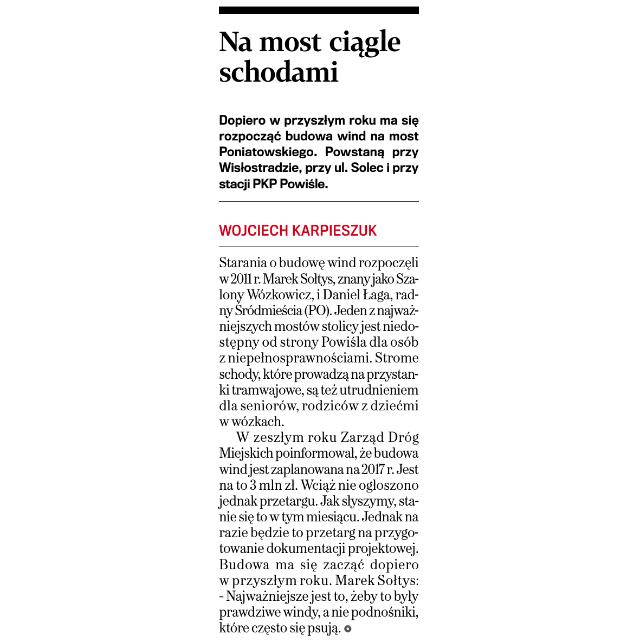author: (214, 215, 386, 243)
body: (212, 255, 428, 638)
lead: (215, 110, 428, 194)
title: (216, 23, 412, 95)
